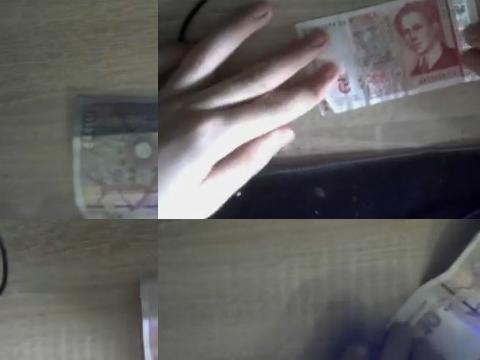10leva: (386, 219, 480, 360), (70, 94, 158, 219)
5leva: (295, 0, 479, 113)
